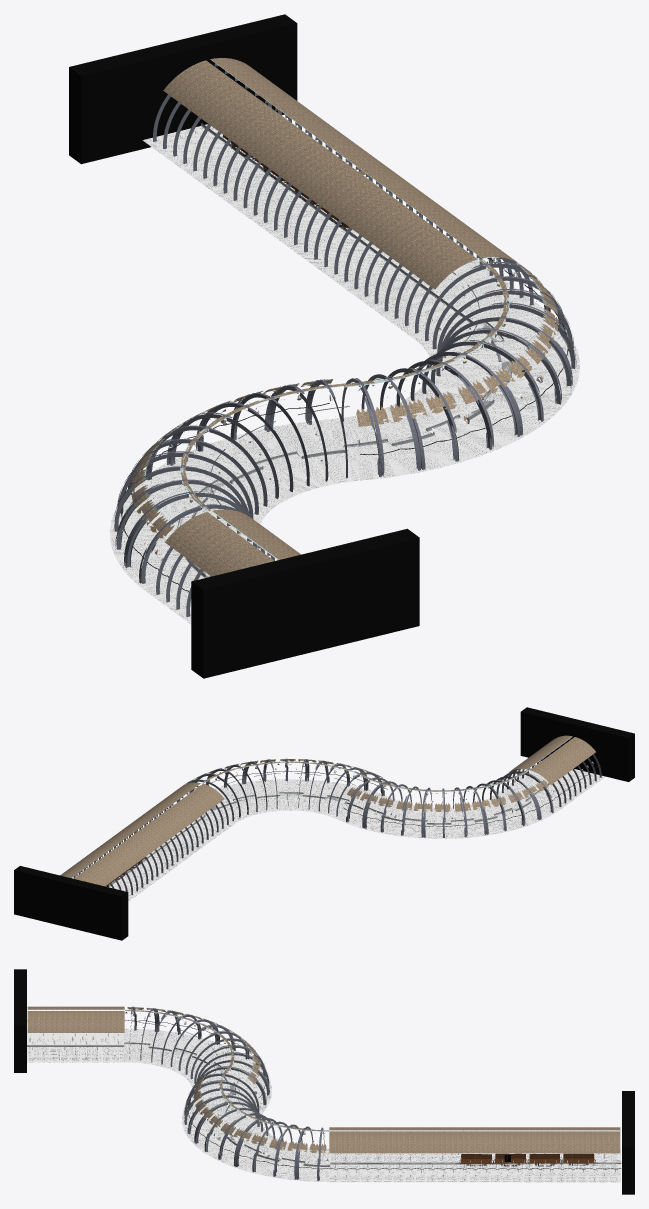
File: coal_mine_gallery.glb
The picture shows the model from 3 angles, top to bottom: view 1: azimuth 30°, elevation 25°; view 2: azimuth 150°, elevation 25°; view 3: azimuth 270°, elevation 25°; orthographic projection. The views are drawn at different scales.
Visible parts, largest first — view 1: mine_material, mine_Color_M09, mine_Groundcover_Gravel_1_inch, mine_Metal_Steel_Textured, mine_Translucent_Glass_Safety, mine___Metal_Rough_1, mine_Metal_Rough; view 2: mine_material, mine_Color_M09, mine_Groundcover_Gravel_1_inch, mine_Metal_Steel_Textured, mine___Metal_Rough_1, mine_Translucent_Glass_Safety, mine_Color_M08, mine_Metal_Rough; view 3: mine_material, mine_Groundcover_Gravel_1_inch, mine_Metal_Steel_Textured, mine_Color_M09, mine_material_2_0, mine___Metal_Rough_1, mine_Translucent_Glass_Safety, mine_Color_M08, mine_Metal_Rough.
Part boxes in pixels (x1,y1,x2,y2): mine_material: (109, 124, 579, 624); mine_Color_M09: (69, 14, 419, 678); mine_Groundcover_Gravel_1_inch: (122, 58, 567, 576); mine_Metal_Steel_Textured: (113, 63, 576, 616); mine_Translucent_Glass_Safety: (142, 60, 546, 560); mine___Metal_Rough_1: (191, 123, 501, 518); mine_Metal_Rough: (177, 322, 512, 577); mine_material: (106, 761, 605, 901); mine_Color_M09: (14, 707, 634, 940); mine_Groundcover_Gravel_1_inch: (60, 735, 595, 886); mine_Metal_Steel_Textured: (73, 738, 601, 895); mine___Metal_Rough_1: (109, 783, 549, 886); mine_Translucent_Glass_Safety: (72, 736, 572, 877); mine_Color_M08: (107, 765, 600, 887); mine_Metal_Rough: (202, 792, 531, 824); mine_material: (27, 1016, 621, 1182); mine_Groundcover_Gravel_1_inch: (27, 1006, 620, 1160); mine_Metal_Steel_Textured: (31, 1006, 616, 1180); mine_Color_M09: (14, 969, 634, 1194); mine_material_2_0: (461, 1153, 594, 1163); mine___Metal_Rough_1: (27, 1045, 620, 1164); mine_Translucent_Glass_Safety: (28, 1007, 619, 1131); mine_Color_M08: (27, 1020, 621, 1169); mine_Metal_Rough: (124, 1042, 329, 1166).
Bounding box in the file's own units: 39.31 × 5.58 × 59.7.
Materials: 20 (14 with a texture image).
